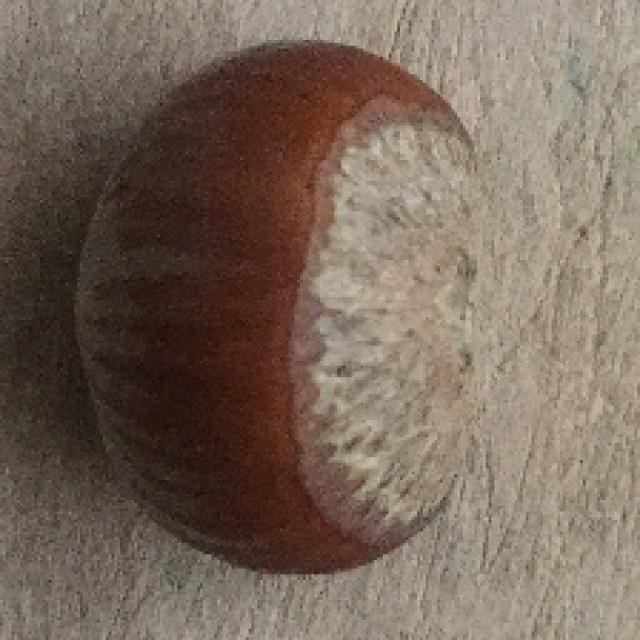qualityHazelnut: (59, 27, 509, 576)
